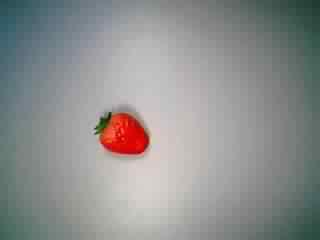strawberry: (90, 99, 158, 163)
